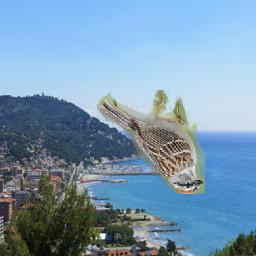Sparrow: (97, 90, 205, 194)
